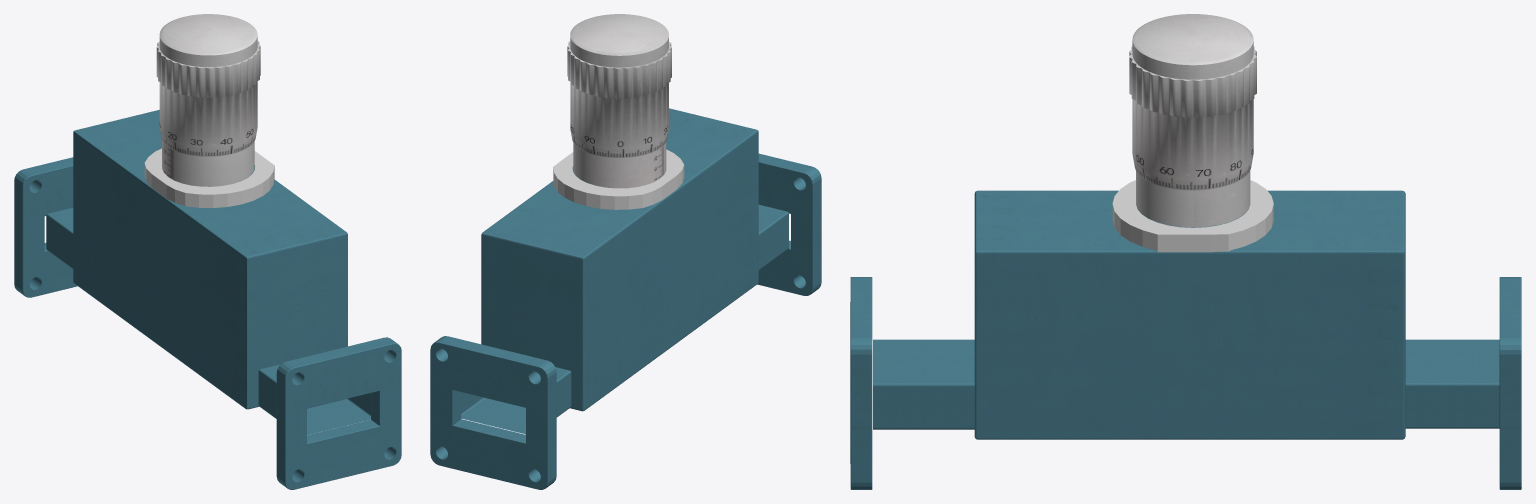
File: ke_bian_shuai_jian_1i(1).FBX
3 views of the same model, side by side, from view 1: azimuth 30°, elevation 25°; view 2: azimuth 150°, elevation 25°; view 3: azimuth 270°, elevation 25° (orthographic). The views are drawn at different scales.
Parts seen in each view (by area): view 1: 对象003, 对象004, 对象006, 对象005, 对象007; view 2: 对象003, 对象005, 对象006, 对象004, 对象007; view 3: 对象003, 对象006, 对象007, 对象004, 对象005.
Part boxes in pixels (left/top/right/bottom): 对象003: left=46, top=110, right=370, bottom=434; 对象004: left=276, top=337, right=401, bottom=489; 对象006: left=156, top=14, right=260, bottom=156; 对象005: left=14, top=157, right=77, bottom=297; 对象007: left=144, top=140, right=274, bottom=207; 对象003: left=461, top=108, right=788, bottom=434; 对象005: left=430, top=336, right=556, bottom=489; 对象006: left=567, top=14, right=671, bottom=157; 对象004: left=757, top=153, right=821, bottom=295; 对象007: left=553, top=142, right=684, bottom=209; 对象003: left=873, top=190, right=1499, bottom=439; 对象006: left=1129, top=14, right=1256, bottom=190; 对象007: left=1112, top=171, right=1273, bottom=252; 对象004: left=850, top=277, right=872, bottom=489; 对象005: left=1499, top=277, right=1521, bottom=489.
Bounding box in the file's own units: 0.3989 × 1.12 × 1.61.
